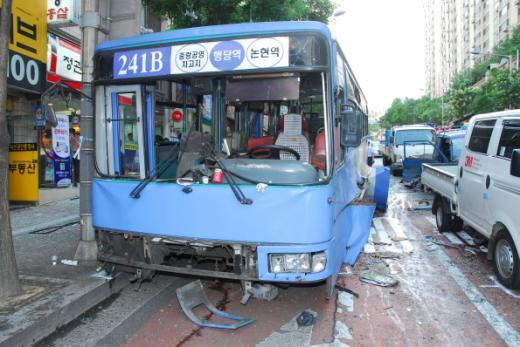bnum: (116, 50, 165, 74)
